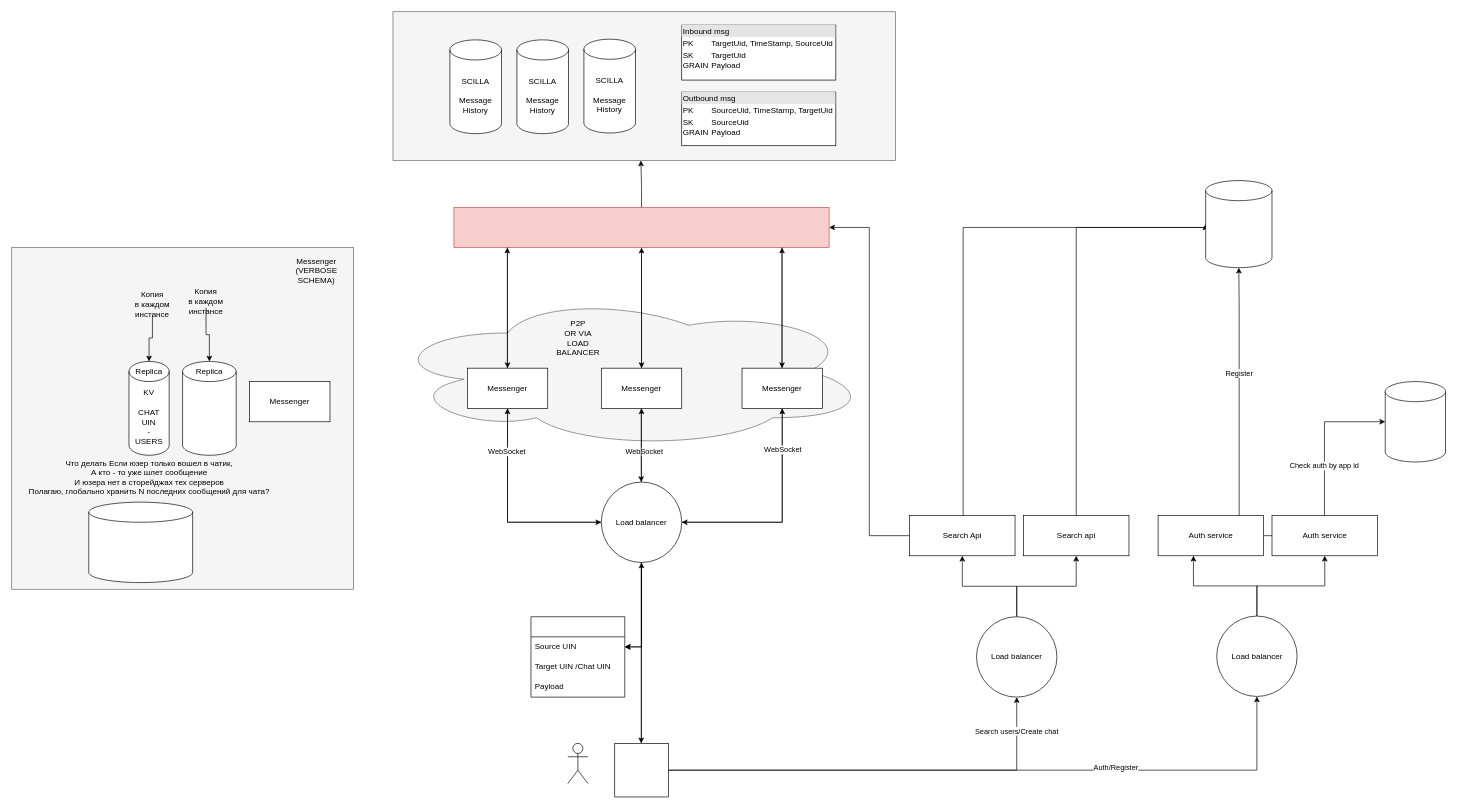
Some shapes in this 1457 by 809 pixel diagram are drawn without their labels. The shapes that lost their labels are listed below. From the top down, each one's box as (x1, y1, x2, y2) in pixels, then its label:
(453, 207, 829, 248): Broker for broadcasting events (new UIN/ chat member updates e.t.c.)
(1205, 180, 1272, 268): Postgres User Data
(182, 361, 236, 455): KV UIN - Status
(1385, 381, 1446, 462): Redis Opened Sessions
(88, 501, 193, 583): SQL CHAT UIN - MESSAGES FOR LAST 5 MINUTES
(530, 616, 625, 697): Message
(567, 743, 588, 784): Actor
(614, 743, 668, 797): Client
